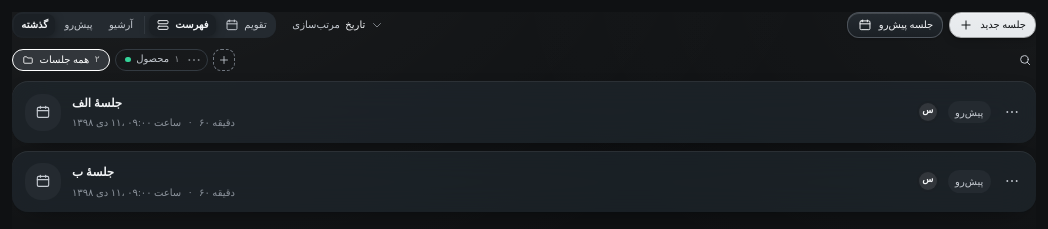
Scenario: Meetings › the topic strip filters, carries its counts, and offers the folder actions on a folder's ⋯ only
The width and height of the screenshot is (1048, 229).
Expected: the text "جلسهٔ الف" is shown, [72,96,122,110]
Expected: the button "همه جلسات ۲" is shown, [12,49,110,70]
Click the button "محصول ۱" at [152, 60], box [125,53,180,66]
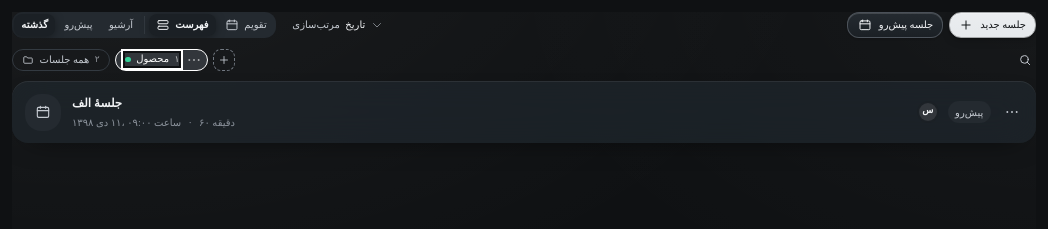
Expected: the text "جلسهٔ الف" is shown, [72,96,122,110]
Expected: the button "جلسهٔ ب" is gone
Click the button "محصول ۱" at [152, 60], box [125,53,180,66]
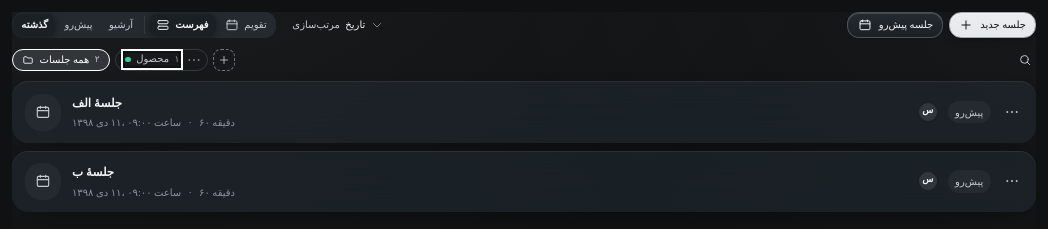
Expected: the text "جلسهٔ ب" is shown, [72,165,114,179]
